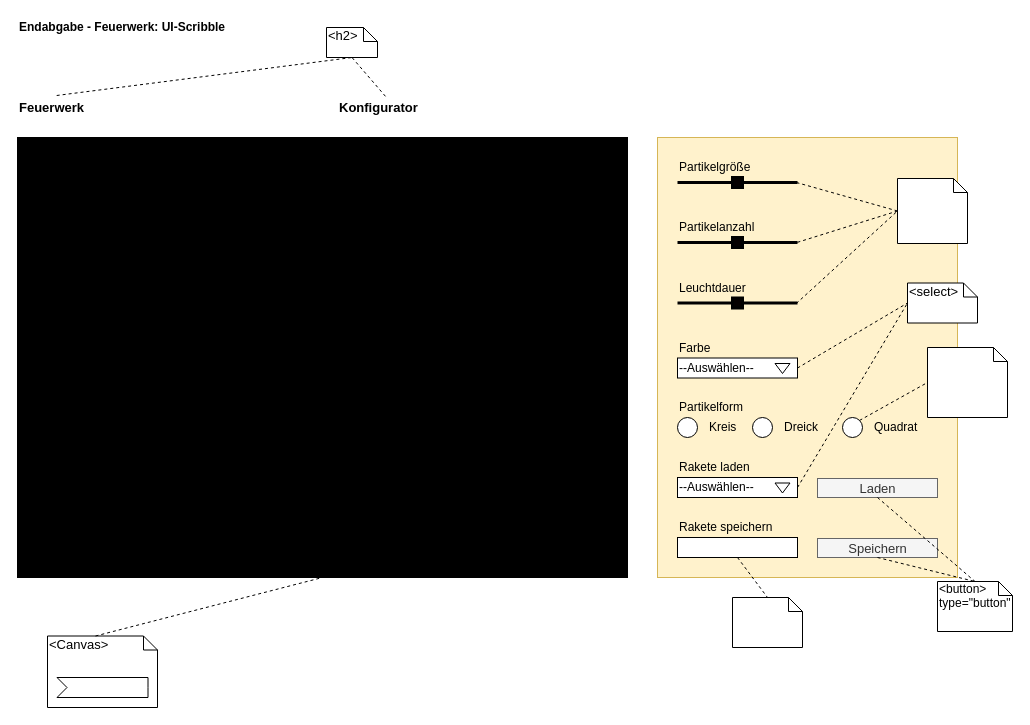
The diagram is 1030 pixels wide and 725 high, and some of its shapes have lost their labels. The shapes that lost their labels are listed below. From the top down, each one's centre as x and y in pixels, then its label:
the point at 932,211: <input> type= "range" dynamic
the point at 967,382: <input> type= "radiobutton" dynamic
the point at 767,622: <input> type="text" dynamic
the point at 102,687: mouseclick
